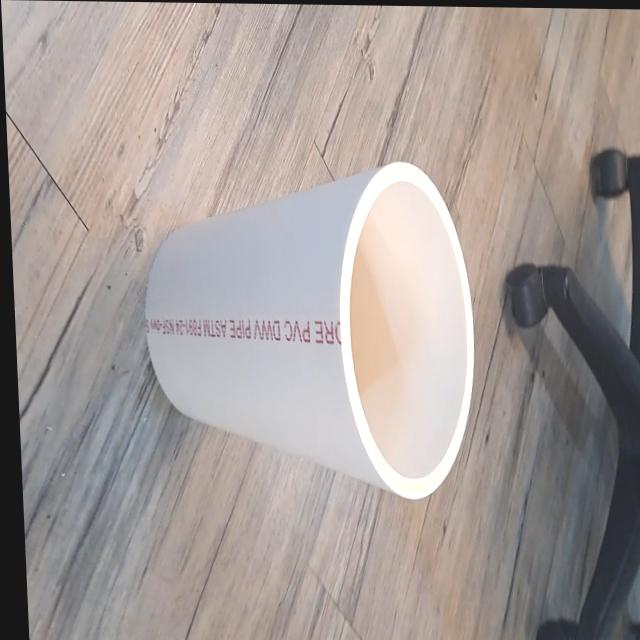CORAL: (134, 150, 484, 527)
